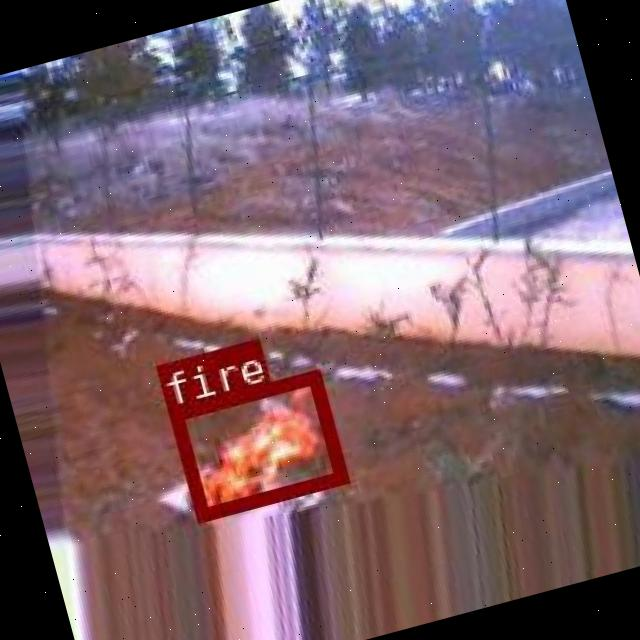fire: (164, 366, 346, 520)
